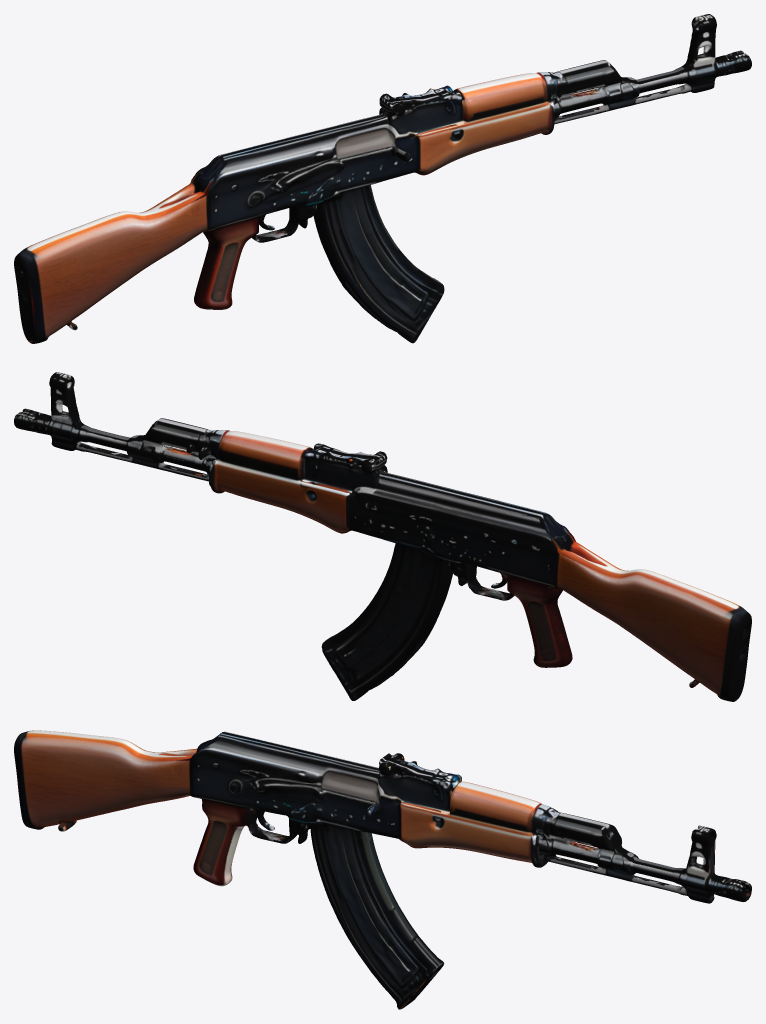
3 views of the same model, one above another, from view 1: azimuth 30°, elevation 25°; view 2: azimuth 150°, elevation 25°; view 3: azimuth 330°, elevation 25° (orthographic).
Visible parts, largest first — view 1: geometry_0; view 2: geometry_0; view 3: geometry_0.
Boxes of the visible parts, box(x1,y1,x2,y2) form: geometry_0: box(14, 14, 751, 343); geometry_0: box(14, 372, 751, 701); geometry_0: box(14, 730, 751, 1009).
Bounding box in the file's own units: 1.88 × 0.6135 × 0.1469.
1 material, 1 textured.
